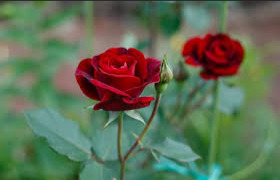RedRose: (75, 46, 161, 111), (182, 32, 245, 79)
